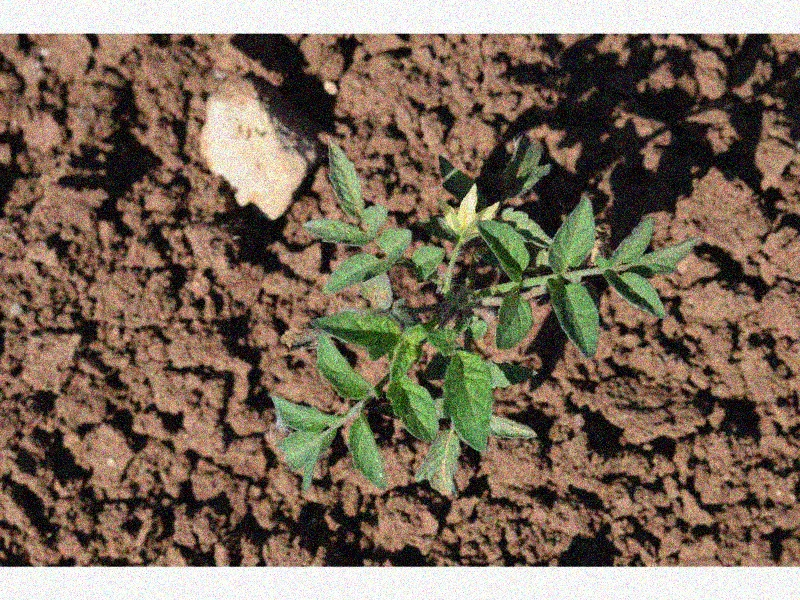tomato: (270, 140, 702, 492)
